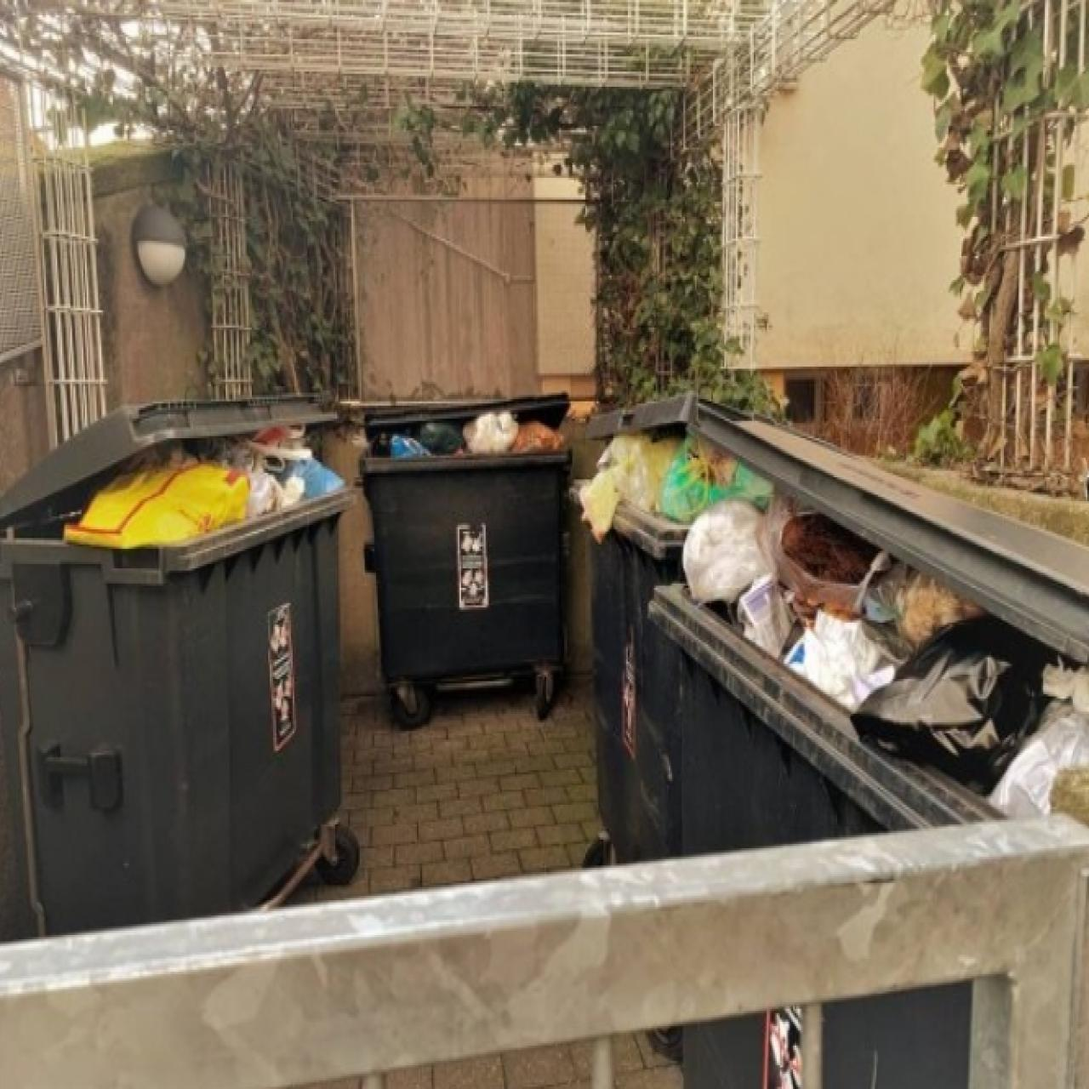bin_full: (650, 402, 1088, 856), (0, 395, 356, 935), (359, 395, 571, 727), (579, 392, 695, 865), (822, 984, 971, 1088), (684, 1015, 801, 1088)
